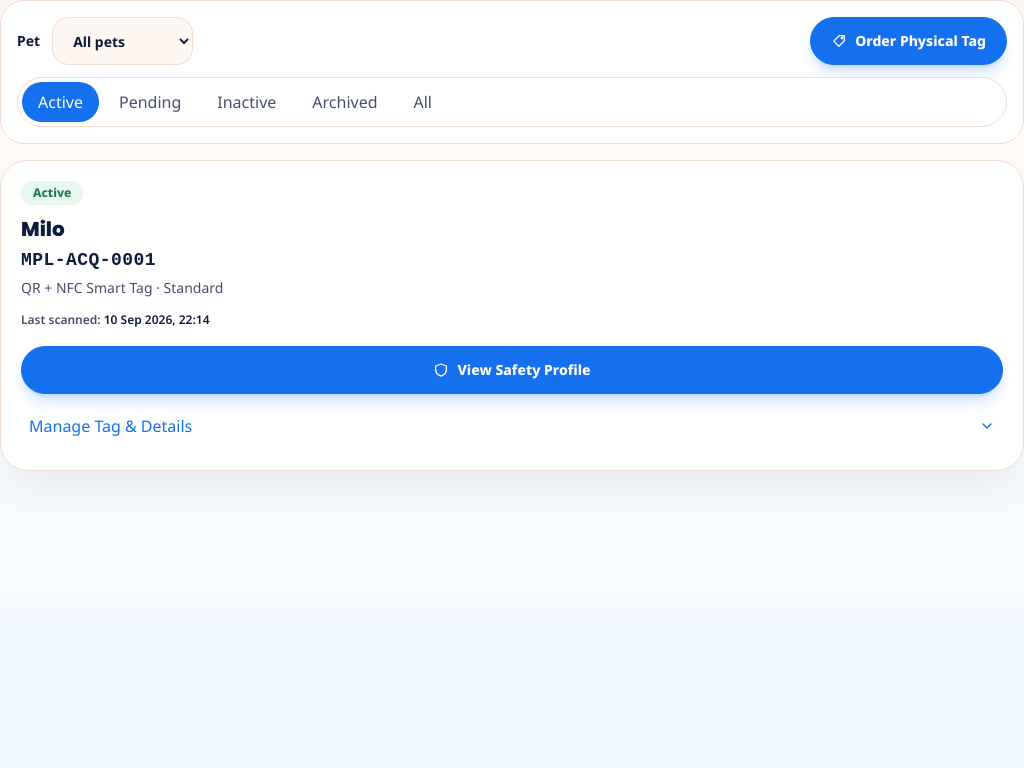
Smart Tag card by acquisition route › A — keeps a genuine pending delivery visible on a direct order
This screenshot has width=1024, height=768.
Expected: the text "MPL-ACQ-0001" is shown, [21,250,156,270]
Click the button "Manage Tag & Details": x=111, y=426 [21,402,1003,450]
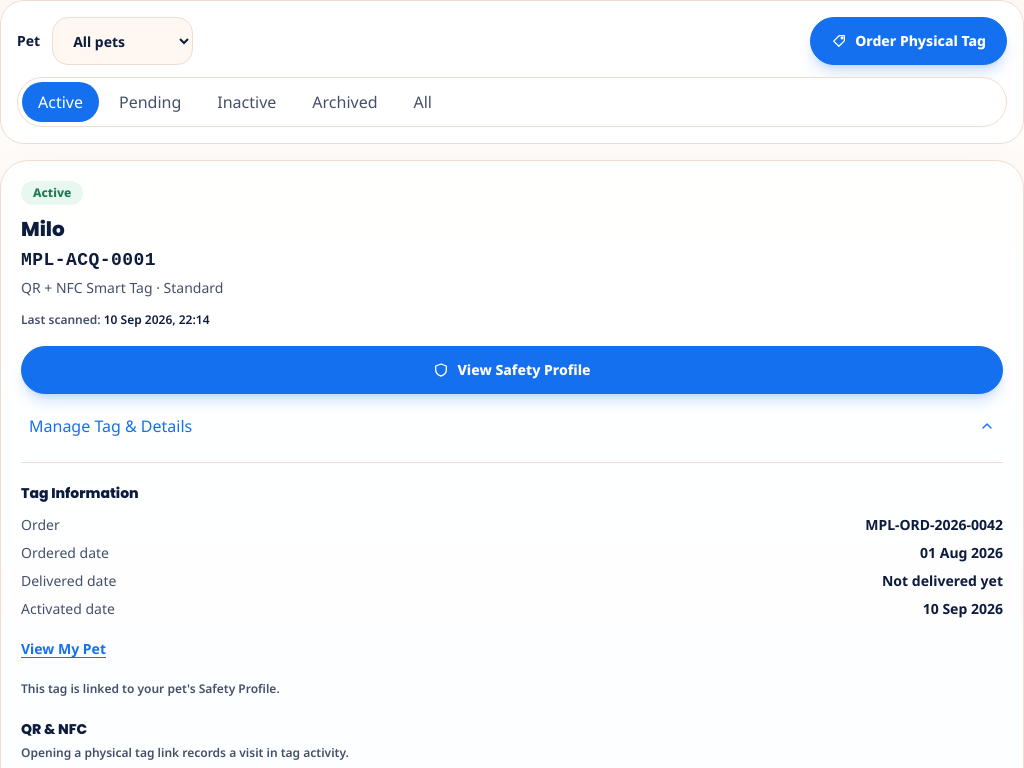
Now the text "Delivered date" is shown, box [21,571,116,591]
Now the text "Not delivered yet" is shown, box [882,571,1003,591]
